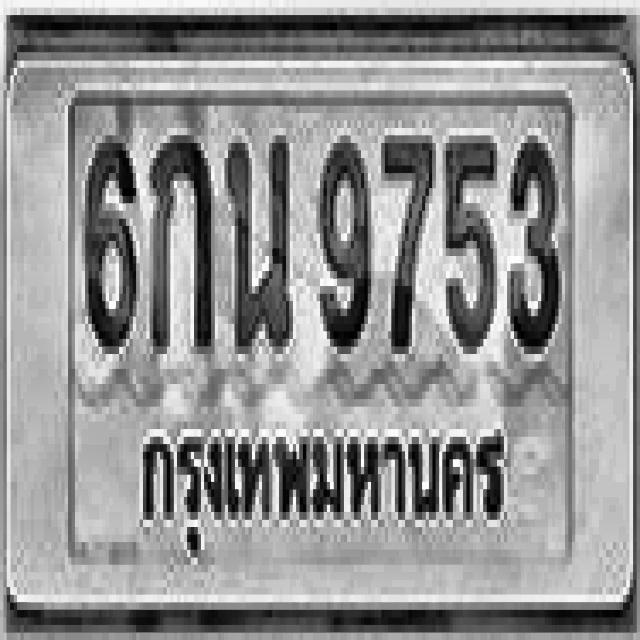license-plate: (10, 55, 633, 610)
